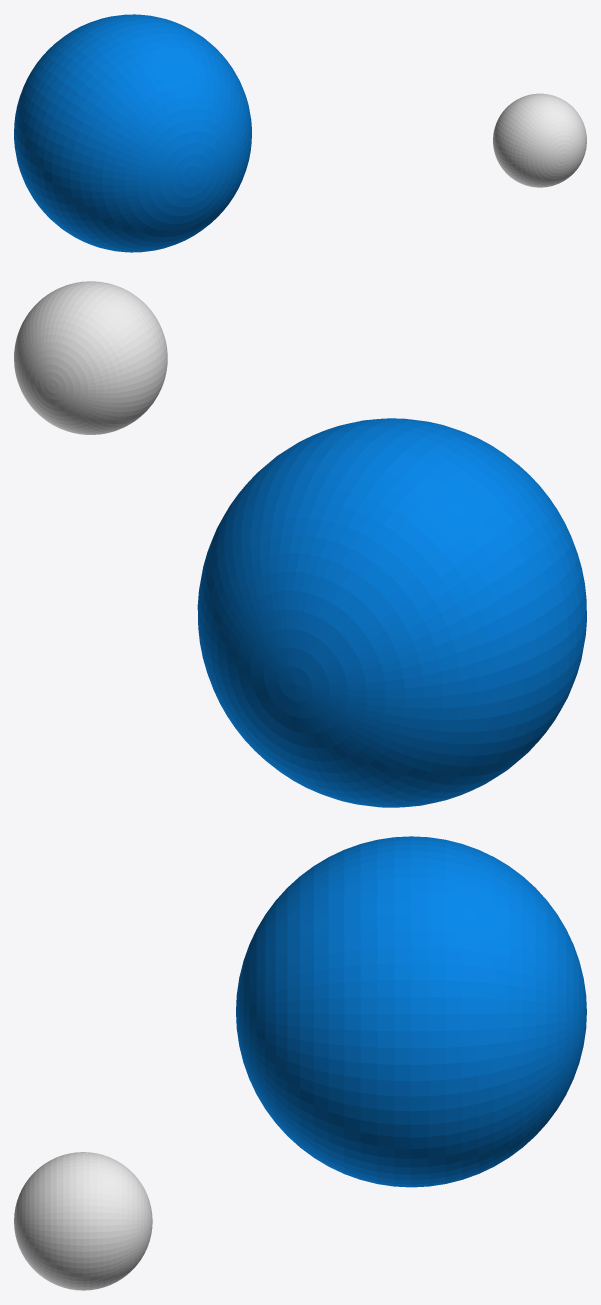
File: moon.glb
3 views of the same model, one above another, from view 1: azimuth 30°, elevation 25°; view 2: azimuth 150°, elevation 25°; view 3: azimuth 270°, elevation 25° (orthographic). The views are drawn at different scales.
Parts seen in each view (by area): view 1: imagetostl_mesh; view 2: imagetostl_mesh; view 3: imagetostl_mesh.
Boxes of the visible parts, x1,y1,x2,y2 form: imagetostl_mesh: [14, 14, 586, 252]; imagetostl_mesh: [14, 281, 586, 807]; imagetostl_mesh: [14, 836, 586, 1290].
Bounding box in the file's own units: 4.33 × 2.03 × 3.32.
